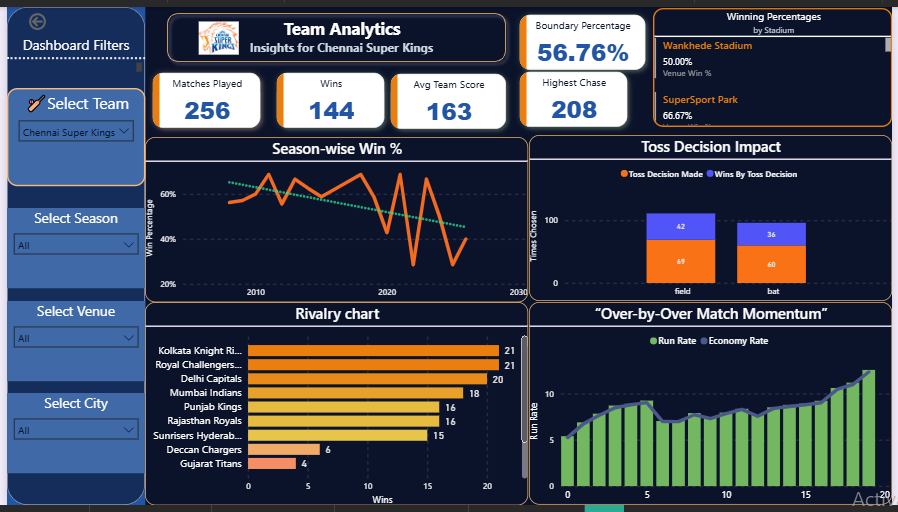

The page's visual inventory and layout, read from the dashboard file:
{"tool":"powerbi","page":{"name":"Team Analytics","canvas":[1280,720],"ordinal":1},"visuals":[{"type":"cardVisual","fields":{"Data":["Dax.Wins"]},"box":[378.5,84,178,102],"z":0},{"type":"lineStackedColumnComboChart","title":"“Over-by-Over Match Momentum”","fields":{"Category":["fact_ipl.over"],"Y":["Dax.Run Rate"],"Y2":["Dax.Economy Rate"]},"box":[754.7,426.5,524.8,293.5],"z":1000},{"type":"shape","box":[222.7,0,507.5,88.2],"z":2000},{"type":"textbox","title":"Team Analytics","box":[273.3,14.5,422.2,60.7],"z":3000},{"type":"shape","box":[0,0,199.5,720],"z":4000},{"type":"slicer","title":"Select Season","fields":{"Values":["fact_ipl.season"]},"box":[0,290.6,199.5,115.7],"z":5000},{"type":"slicer","title":"Select Venue","fields":{"Values":["dim_venue.venue"]},"box":[0,425.1,199.5,115.7],"z":6000},{"type":"slicer","title":"🏏Select Team","fields":{"Values":["dim_team.team_name"]},"box":[0,117.1,199.5,141.7],"z":7000},{"type":"textbox","title":"Dashboard Filters","box":[0,40.5,199.5,57.8],"z":8000},{"type":"slicer","title":"Select City","fields":{"Values":["dim_venue.city"]},"box":[0,558.1,199.5,115.7],"z":9000},{"type":"cardVisual","fields":{"Data":["Dax.Dynamic Subtitle"]},"box":[237.1,17.3,493,70.8],"z":10000},{"type":"image","box":[263.1,15.9,86.7,57.8],"z":11000},{"type":"cardVisual","fields":{"Data":["Dax.Total Matches Played"]},"box":[199.7,84,178.8,102.8],"z":12000},{"type":"cardVisual","fields":{"Data":["Dax.Avg Team Score"]},"box":[543.9,84.9,189,102],"z":13000},{"type":"cardVisual","fields":{"Data":["Dax.Boundary Percentage"]},"box":[730.2,0,204,102],"z":14000},{"type":"cardVisual","fields":{"Data":["Dax.Highest Chase"]},"box":[730.2,82,178,102],"z":15000},{"type":"multiRowCard","title":"Winning Percentages ","fields":{"Values":["Dax.Venue Win %","dim_venue.venue"]},"box":[934,1.4,345.5,172],"z":16000},{"type":"lineChart","title":"Season-wise Win %","fields":{"Category":["fact_ipl.season"],"Y":["Dax.Win Percentage"]},"box":[199.5,188,553.7,238.6],"z":18000},{"type":"columnChart","title":"Toss Decision Impact","fields":{"Category":["fact_ipl.toss_decision"],"Y":["Dax.Toss Decision","Dax.Wins By Toss Decision"]},"box":[754.7,185.1,524.8,240],"z":19000},{"type":"clusteredBarChart","title":"Rivalry chart","fields":{"Category":["dim_opponent.team_name"],"Y":["Dax.Wins"]},"box":[200,426,554,294],"z":20000},{"type":"actionButton","box":[27.5,1.4,33.3,39],"z":21000}]}

Visuals, with their boxes in screenshot pixels (x1, y1, x2, y2), scaled from the page's 1280x720 canvas onto the 898x512 screenshot:
cardVisual - Dax.Wins: [266, 60, 390, 132]
"“Over-by-Over Match Momentum”" lineStackedColumnComboChart: [529, 303, 897, 511]
shape: [156, 0, 512, 63]
"Team Analytics" textbox: [192, 10, 488, 53]
shape: [0, 0, 140, 511]
"Select Season" slicer: [0, 207, 140, 289]
"Select Venue" slicer: [0, 302, 140, 385]
"🏏Select Team" slicer: [0, 83, 140, 184]
"Dashboard Filters" textbox: [0, 29, 140, 70]
"Select City" slicer: [0, 397, 140, 479]
cardVisual - Dax.Dynamic Subtitle: [166, 12, 512, 63]
image: [185, 11, 245, 52]
cardVisual - Dax.Total Matches Played: [140, 60, 266, 133]
cardVisual - Dax.Avg Team Score: [382, 60, 514, 133]
cardVisual - Dax.Boundary Percentage: [512, 0, 655, 73]
cardVisual - Dax.Highest Chase: [512, 58, 637, 131]
"Winning Percentages " multiRowCard: [655, 1, 897, 123]
"Season-wise Win %" lineChart: [140, 134, 528, 303]
"Toss Decision Impact" columnChart: [529, 132, 897, 302]
"Rivalry chart" clusteredBarChart: [140, 303, 529, 511]
actionButton: [19, 1, 43, 29]
